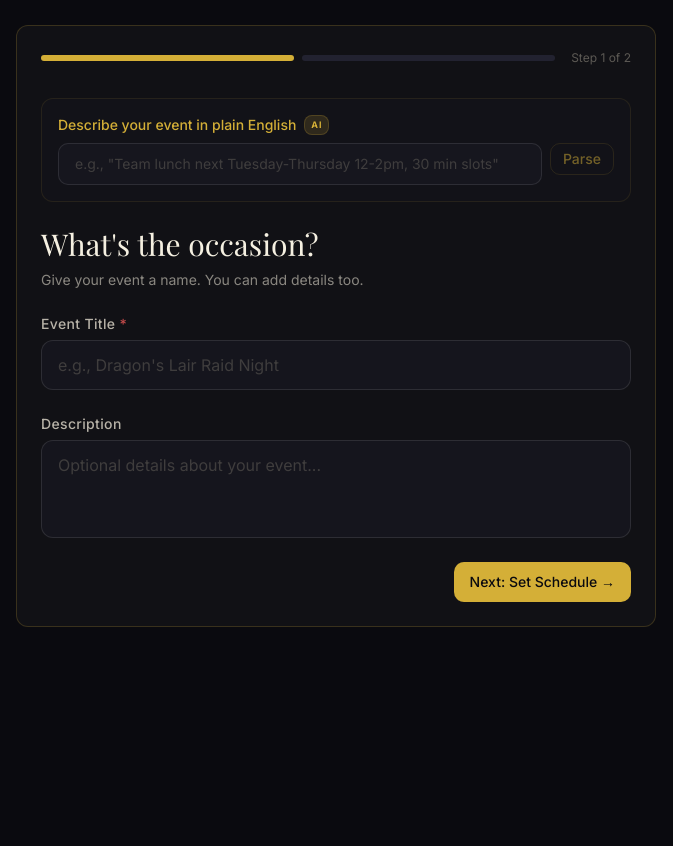
CreateEventPage › can go back from step 2 to step 1
Type "Dragon Raid" into the field labelled "Event Title*" at (336, 365), box top-left (41, 340), bottom-right (631, 390)
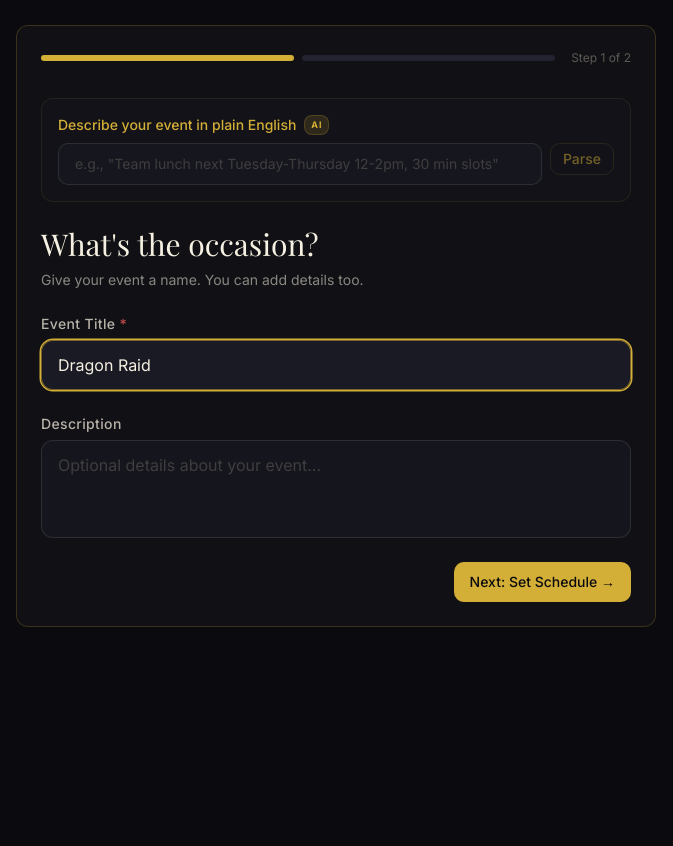
Click the button "Next: Set Schedule →" at (542, 582), box top-left (454, 562), bottom-right (631, 602)
(page scrolled)
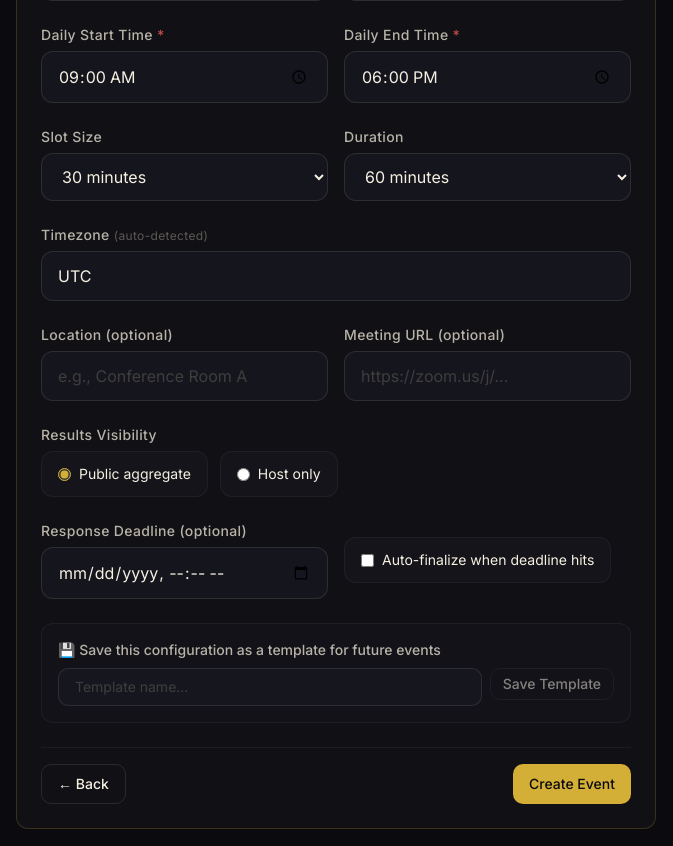
Click the button "← Back" at (83, 784), box top-left (41, 764), bottom-right (126, 804)
(page scrolled)
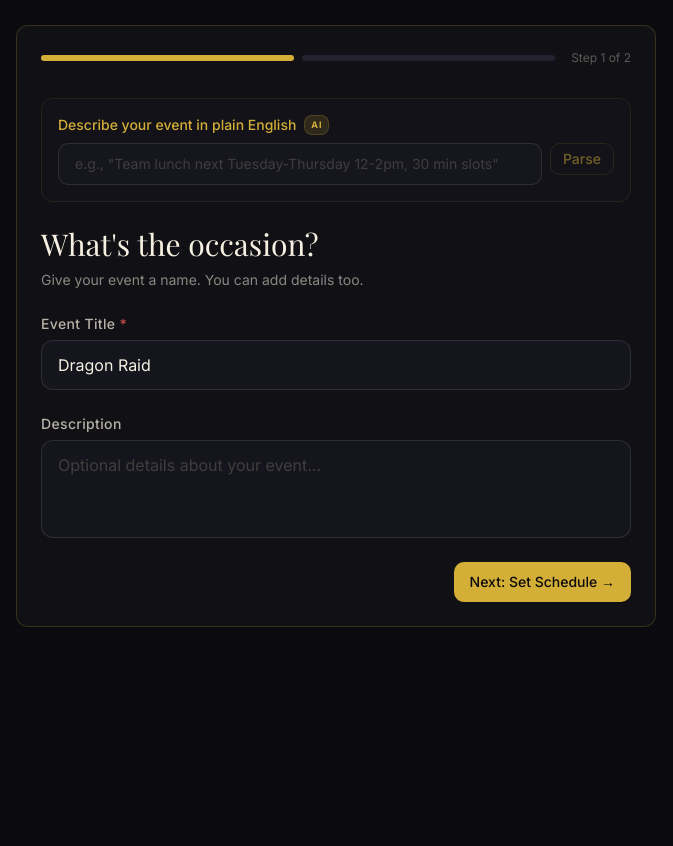
Expected: the heading "What's the occasion?" is shown, top-left (41, 224), bottom-right (319, 264)
